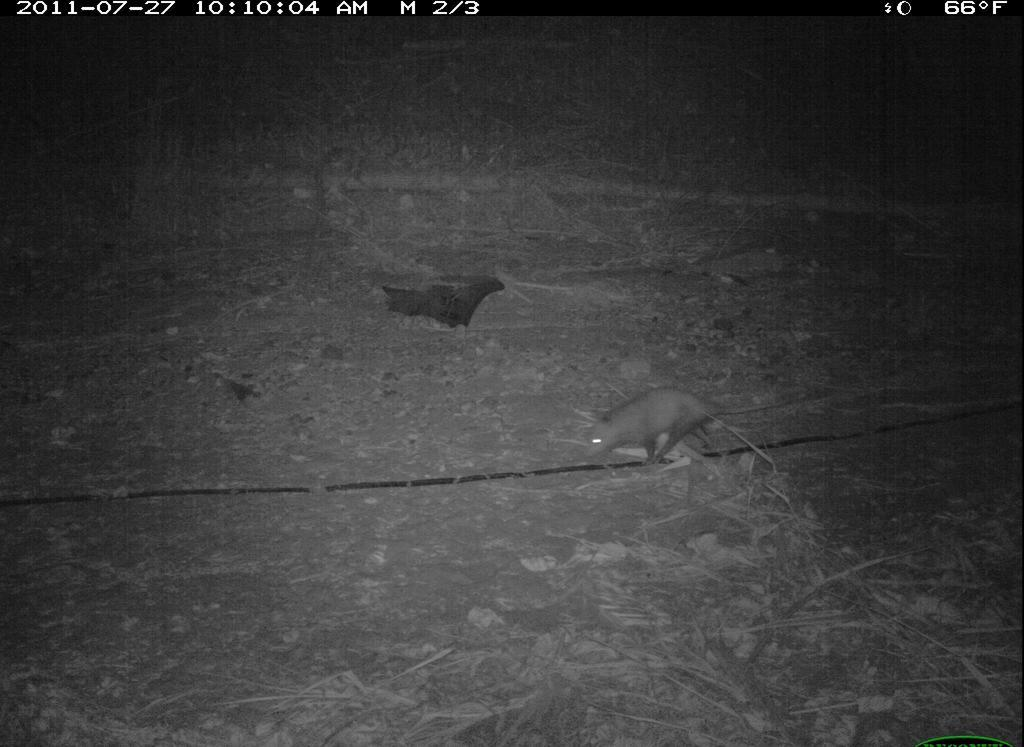opossum: (571, 372, 794, 475)
